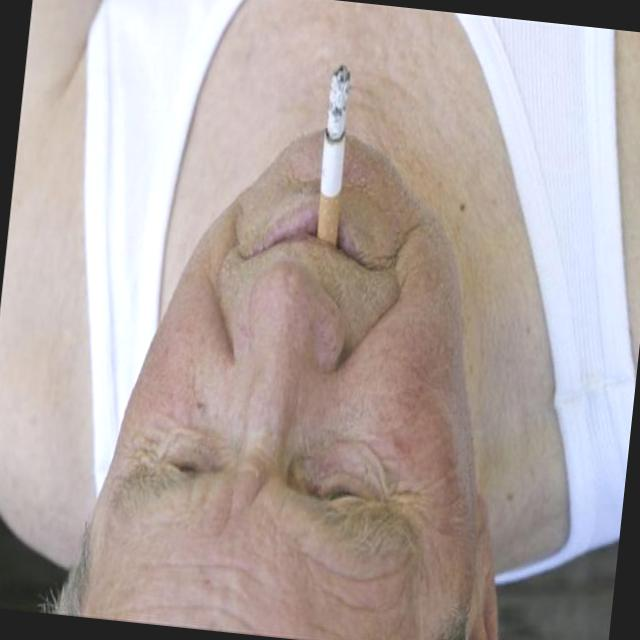smoke: (305, 56, 360, 255)
